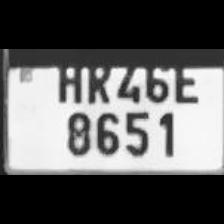1: (152, 106, 182, 156)
4: (112, 56, 144, 103)
5: (120, 106, 152, 156)
6: (92, 107, 120, 157), (140, 60, 170, 102)
8: (60, 107, 92, 157)
E: (168, 57, 200, 105)
H: (50, 52, 84, 102)
R: (82, 55, 110, 103)
